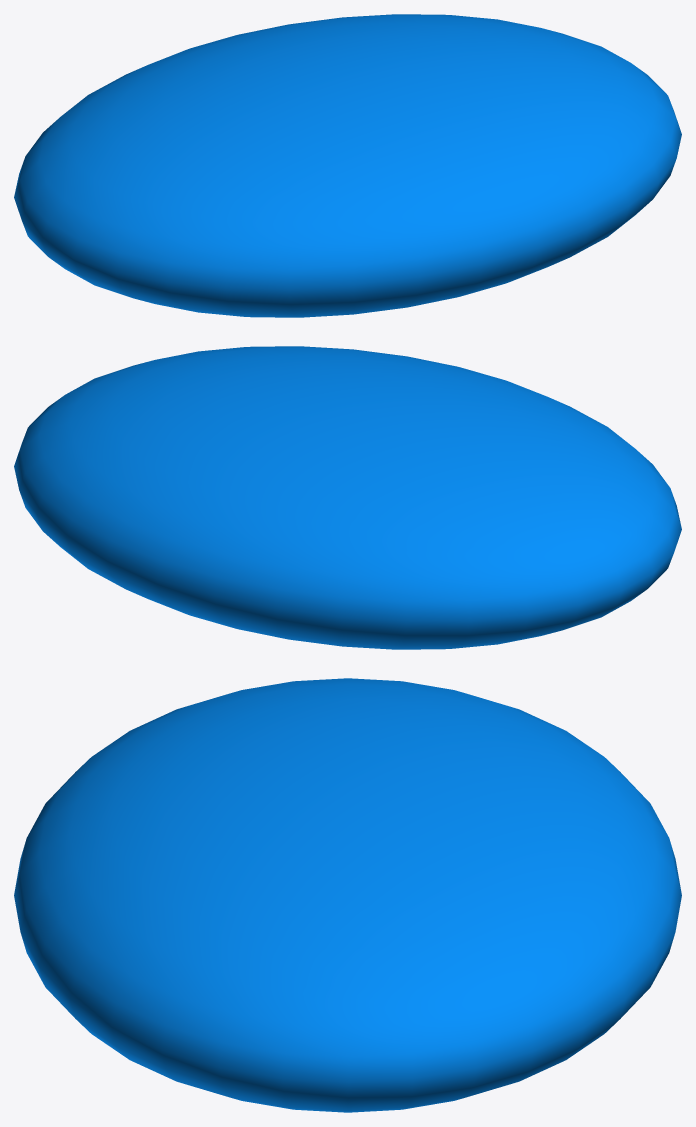
The model's file is Shield.FBX.
3 renders of one model, top to bottom at view 1: azimuth 30°, elevation 25°; view 2: azimuth 150°, elevation 25°; view 3: azimuth 270°, elevation 25°, orthographic. The views are drawn at different scales.
Parts seen in each view (by area): view 1: Shield; view 2: Shield; view 3: Shield.
Boxes of the visible parts, box(x1,y1,x2,y2) form: Shield: box(14, 14, 681, 317); Shield: box(14, 346, 681, 649); Shield: box(14, 678, 681, 1112).
Bounding box in the file's own units: 639 × 178 × 483.
